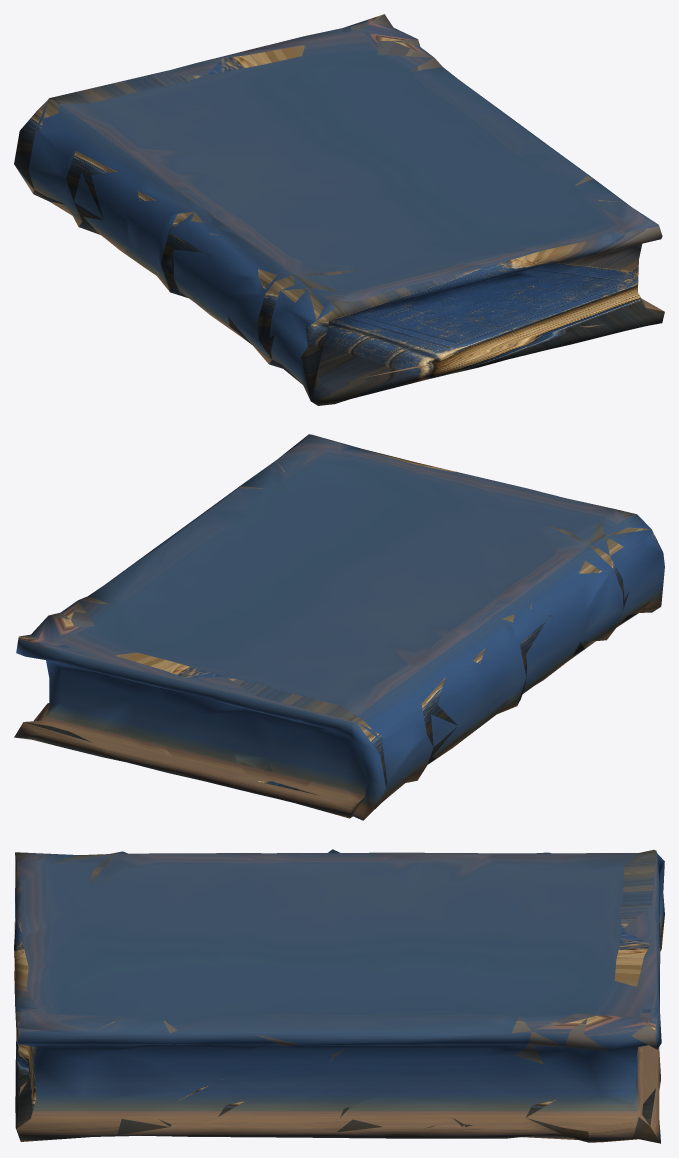
File: asset_blue-book.glb
3 views of the same model, one above another, from view 1: azimuth 30°, elevation 25°; view 2: azimuth 150°, elevation 25°; view 3: azimuth 270°, elevation 25° (orthographic). The views are drawn at different scales.
Visible parts, largest first — view 1: geometry_0; view 2: geometry_0; view 3: geometry_0.
Boxes of the visible parts, bbox=[...] form: geometry_0: bbox=[14, 14, 664, 405]; geometry_0: bbox=[14, 434, 664, 820]; geometry_0: bbox=[14, 849, 664, 1143].
Bounding box in the file's own units: 0.9466 × 0.25 × 1.28.
1 material, 1 textured.
